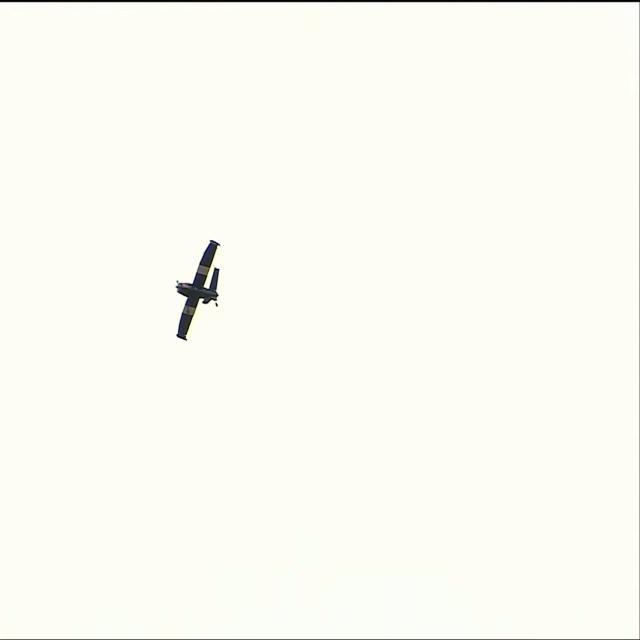iha: (169, 271, 215, 309)
